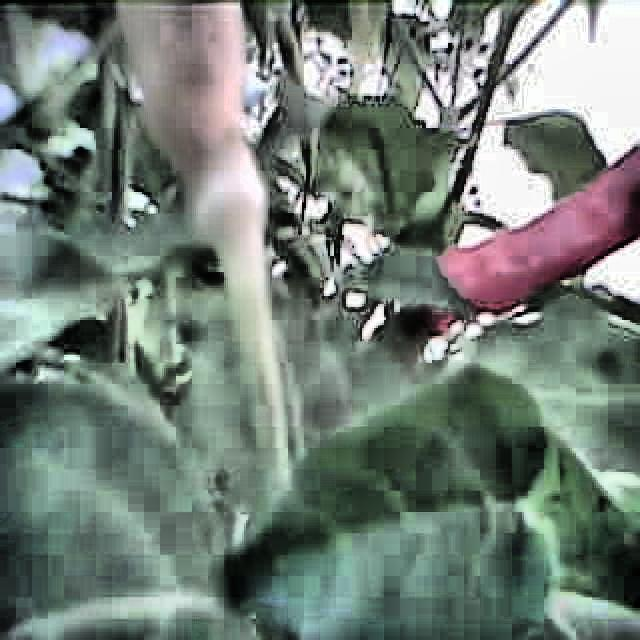Cabai: (423, 151, 640, 332)
